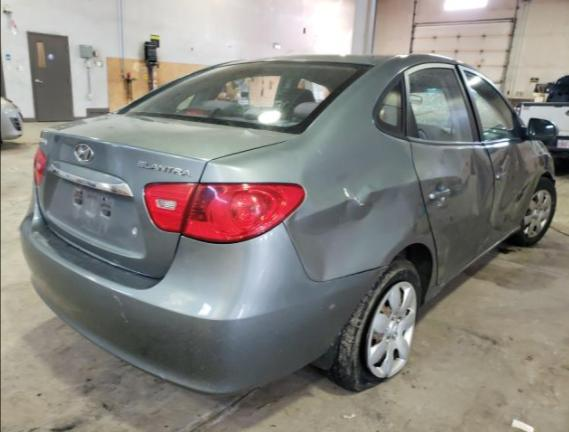Broken part: (450, 63, 483, 142)
Dent: (283, 184, 417, 283), (421, 146, 494, 256), (489, 144, 537, 246), (302, 149, 378, 210), (432, 228, 450, 285), (413, 202, 431, 234), (537, 154, 555, 178)
Missing part: (69, 183, 113, 235)
Scratch: (342, 187, 364, 208)
